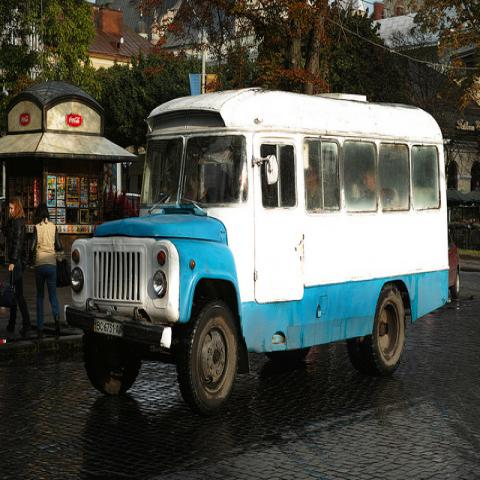bus: (64, 88, 449, 419)
car: (448, 230, 461, 297)
truck: (65, 86, 449, 415)
